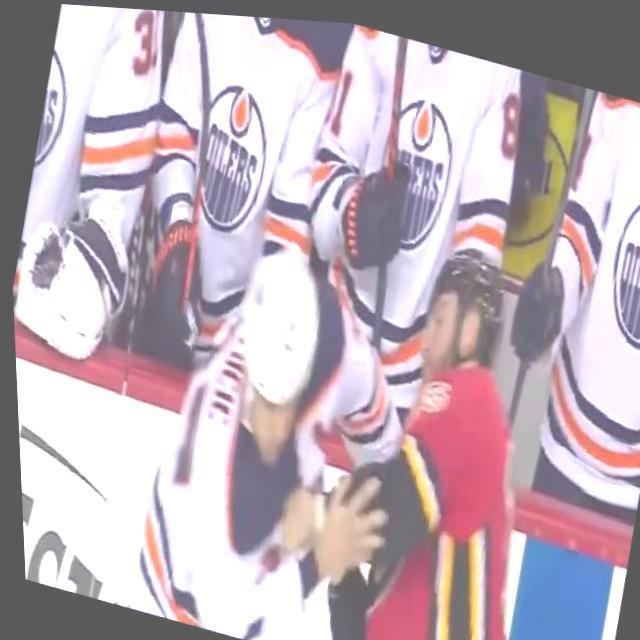fight: (120, 166, 572, 640)
